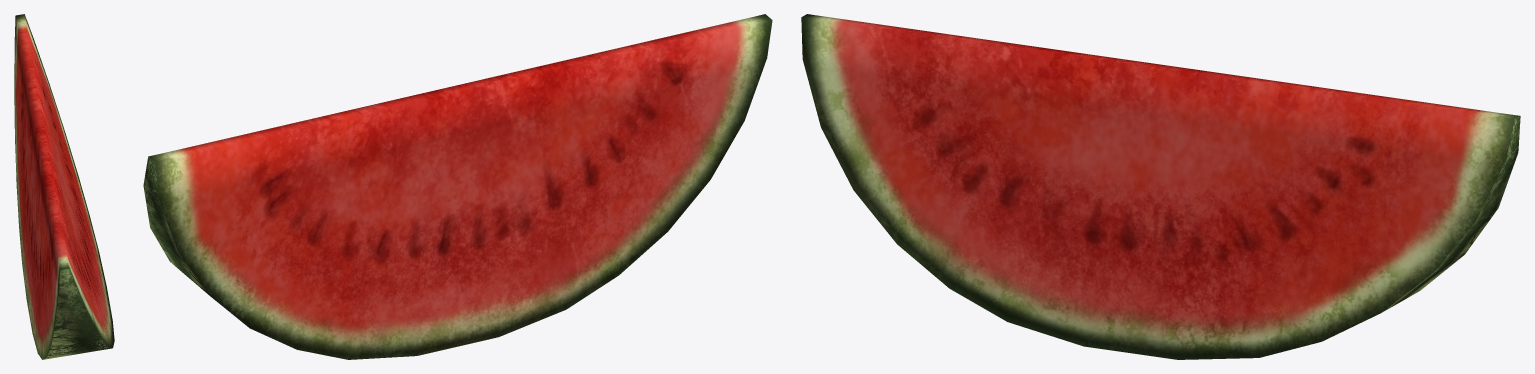
The model's file is uploads_files_2527635_Watermelon.fbx.
3 views of the same model, side by side, from view 1: azimuth 30°, elevation 25°; view 2: azimuth 150°, elevation 25°; view 3: azimuth 270°, elevation 25° (orthographic). The views are drawn at different scales.
Parts seen in each view (by area): view 1: Fruit_Watermelon_piece; view 2: Fruit_Watermelon_piece; view 3: Fruit_Watermelon_piece.
Part boxes in pixels (x1=…): Fruit_Watermelon_piece: x1=14, y1=14, x2=114, y2=359; Fruit_Watermelon_piece: x1=143, y1=14, x2=772, y2=359; Fruit_Watermelon_piece: x1=801, y1=14, x2=1520, y2=359.
Bounding box in the file's own units: 23.14 × 19.73 × 45.09.
